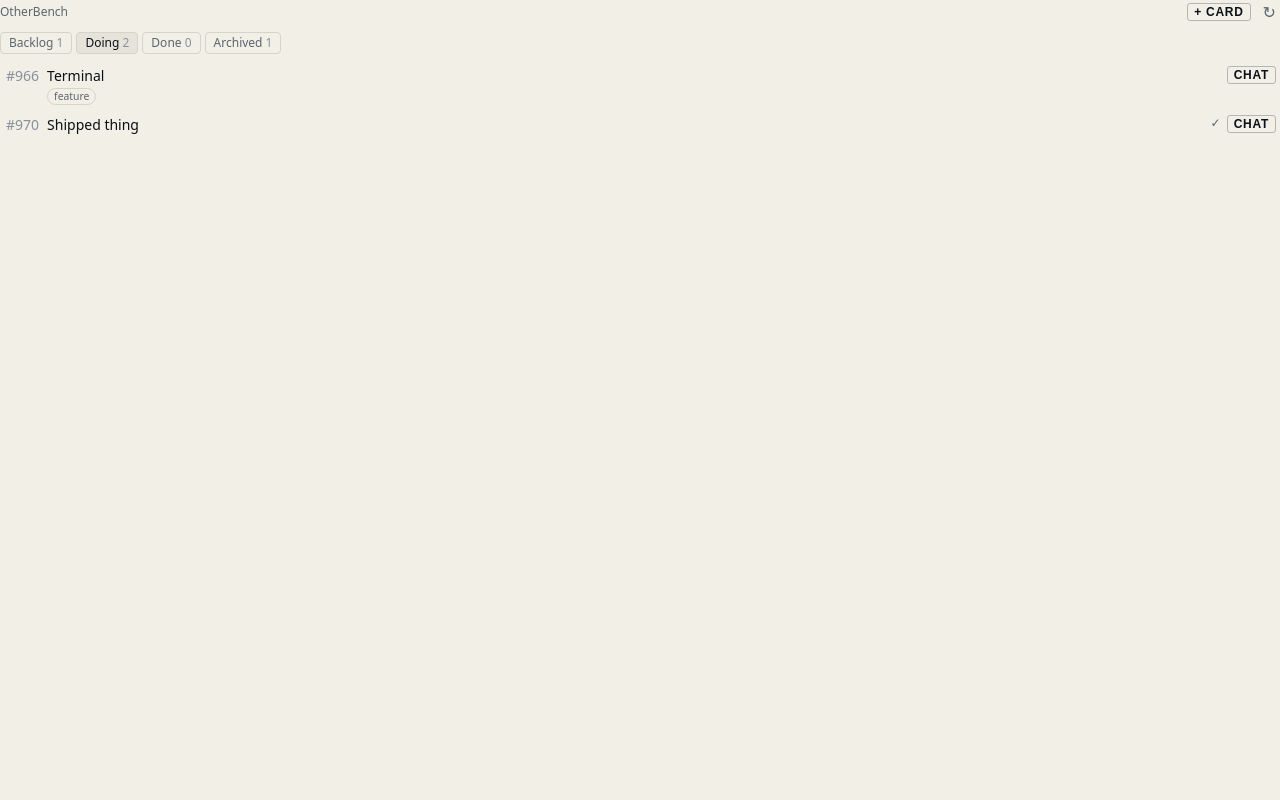
Scenario: DeckTab › Delete asks first, then deletes and returns to the list
Click the button with test id "card-row-966" at {"x": 76, "y": 76}, box x1=0 y1=62 x2=1227 y2=109
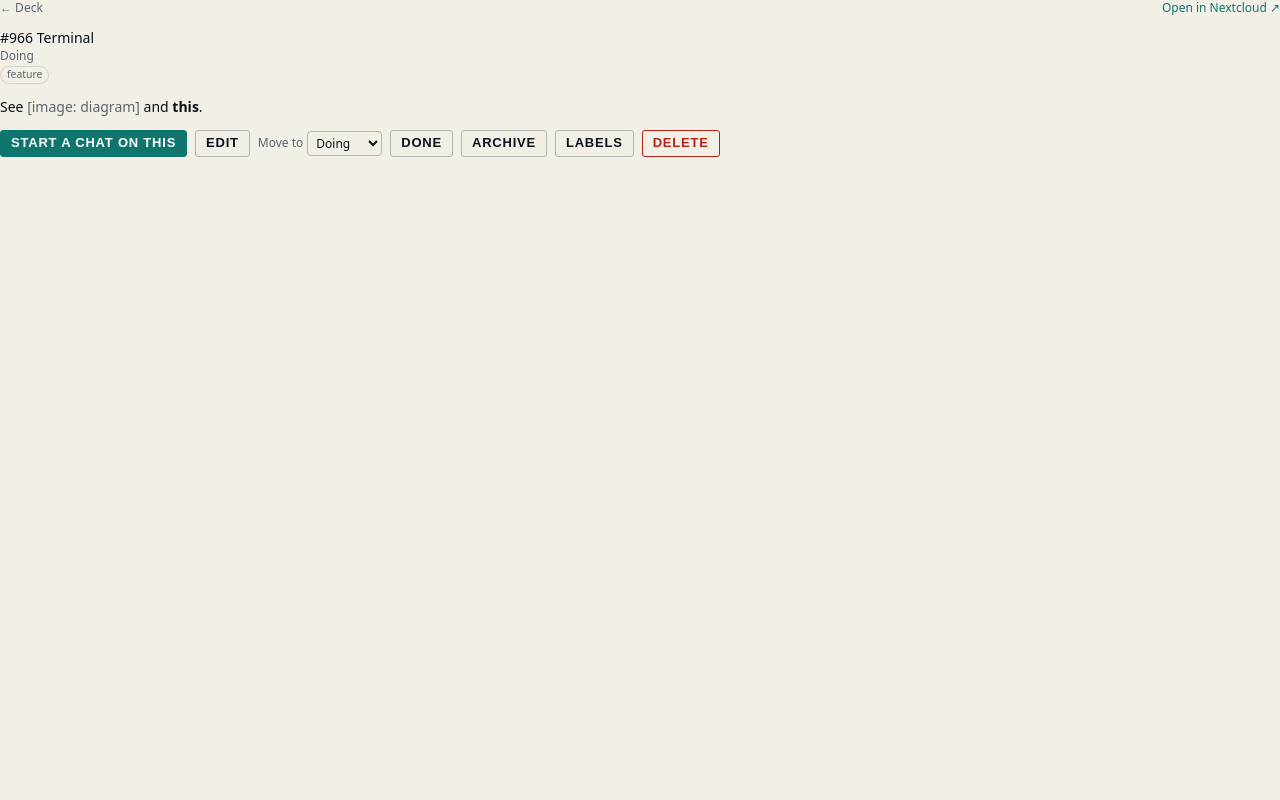
Click the button "Delete" at {"x": 681, "y": 144}, box x1=642 y1=130 x2=720 y2=157
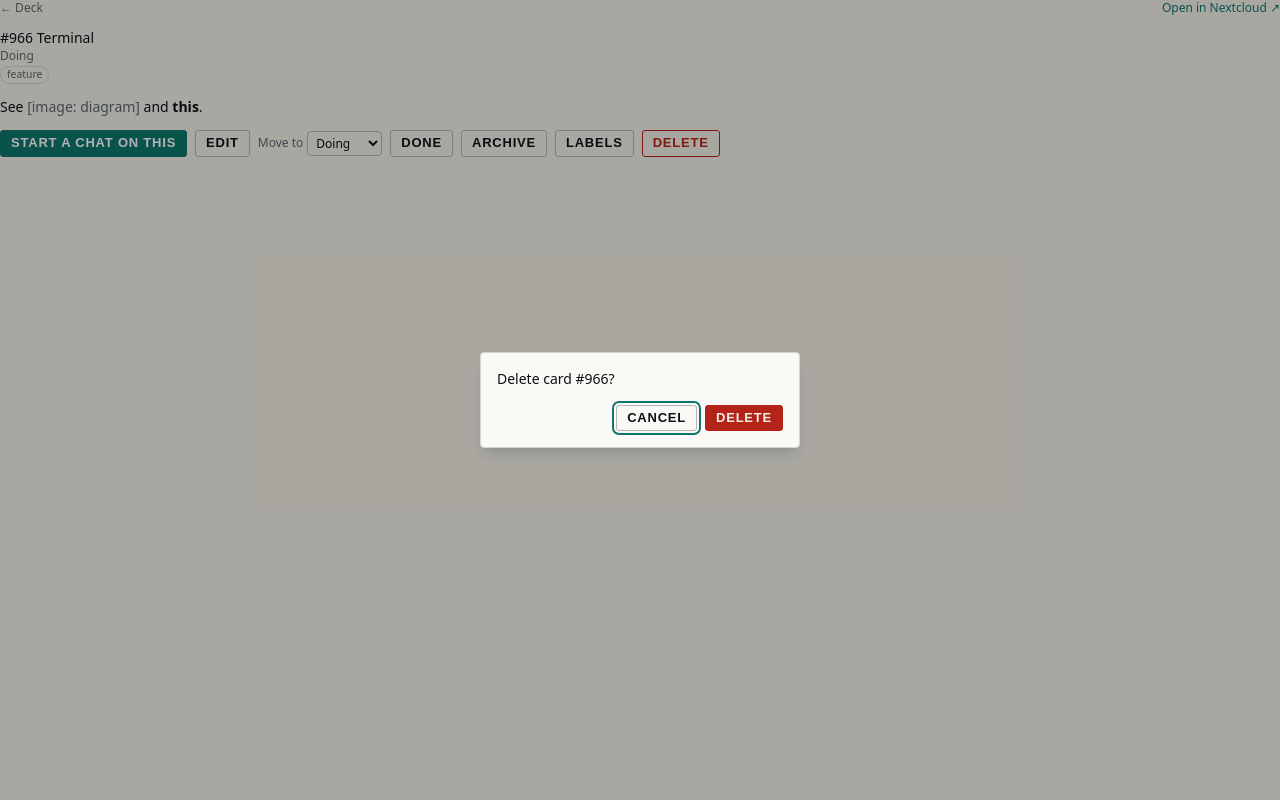
Click the button "Delete" at {"x": 744, "y": 418}, box x1=705 y1=405 x2=783 y2=431
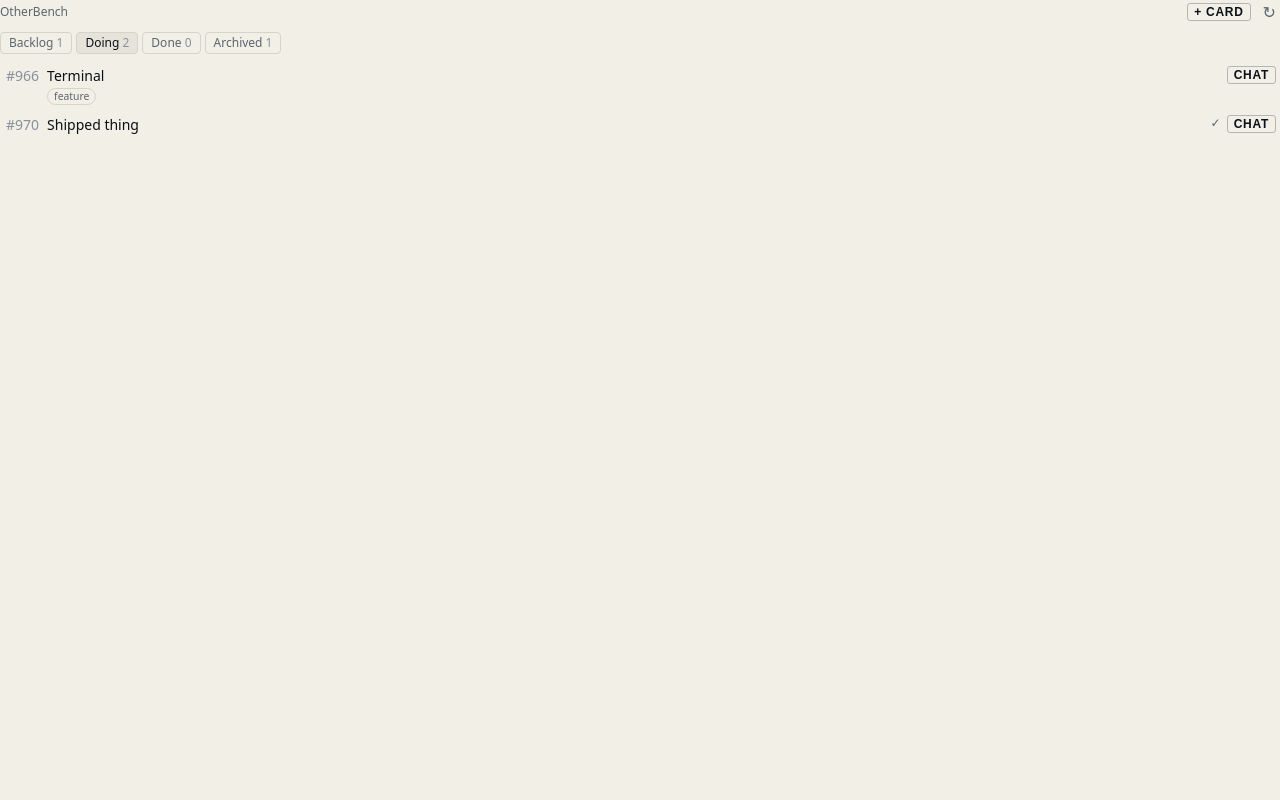
Expected: the button with test id "card-row-966" is shown, x1=0 y1=62 x2=1227 y2=109
Expected: the element with test id "card-detail" is gone
Expected: the dialog is gone
